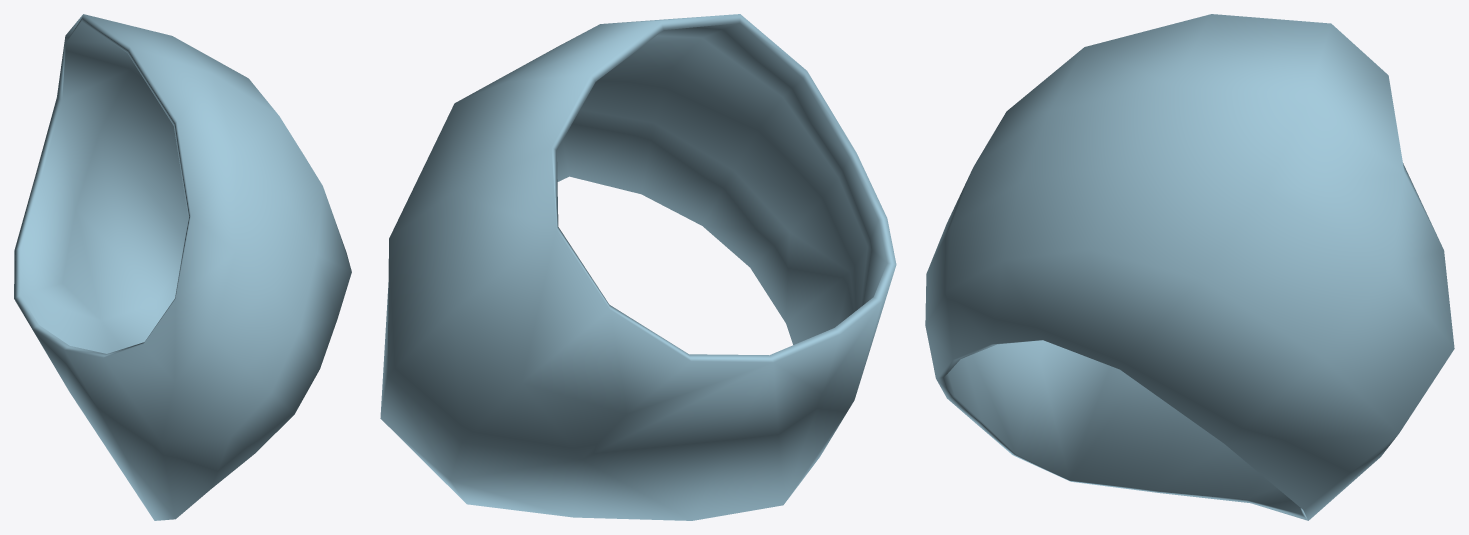
File: articulacoes-articular-capsule-of-sternoclavicular-joint-r.glb
3 renders of one model, left to right at view 1: azimuth 30°, elevation 25°; view 2: azimuth 150°, elevation 25°; view 3: azimuth 270°, elevation 25°, orthographic. The views are drawn at different scales.
Parts seen in each view (by area): view 1: Articular capsule of sternoclavicular joint.r; view 2: Articular capsule of sternoclavicular joint.r; view 3: Articular capsule of sternoclavicular joint.r.
Part boxes in pixels (box(x1,y1,x2,y2)): Articular capsule of sternoclavicular joint.r: box(14, 14, 351, 520); Articular capsule of sternoclavicular joint.r: box(380, 14, 896, 520); Articular capsule of sternoclavicular joint.r: box(925, 14, 1454, 520).
Bounding box in the file's own units: 0.0235 × 0.0311 × 0.0305.
